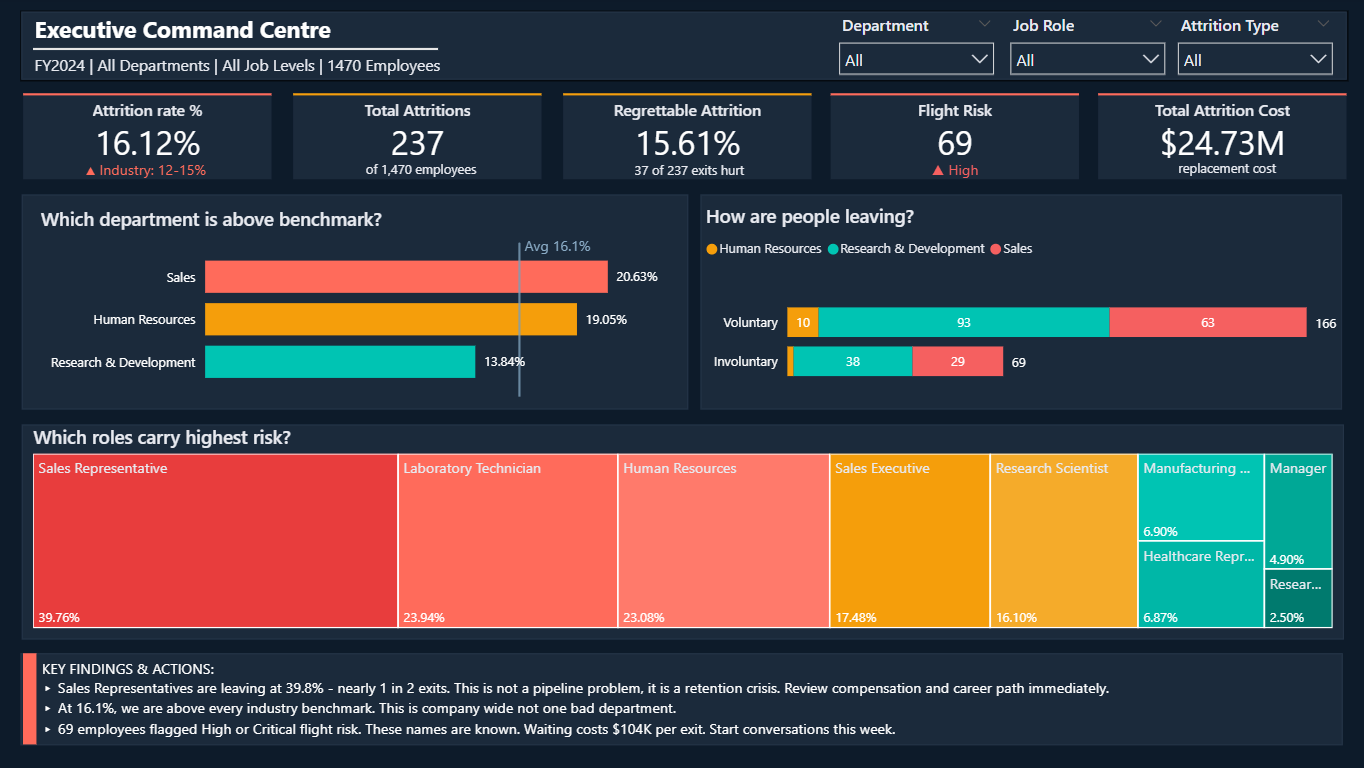

This screenshot's page, from the dashboard's own definition file:
{"tool":"powerbi","page":{"name":"Command Centre","canvas":[1280,720],"ordinal":0},"visuals":[{"type":"shape","box":[25.6,12.8,1235,65.4],"z":0},{"type":"textbox","box":[34,11,315.7,59],"z":1000},{"type":"slicer","fields":{"Values":["HR_Attrition.Department"]},"box":[777.1,11,164.3,61.4],"z":2000},{"type":"slicer","fields":{"Values":["HR_Attrition.JobRole"]},"box":[935.7,11,164.3,61.4],"z":3000},{"type":"slicer","fields":{"Values":["HR_Attrition.AttritionType"]},"box":[1091.4,11,164.3,61.4],"z":4000},{"type":"shape","box":[25.7,610,1230,85.7],"z":5000},{"type":"cardVisual","fields":{"Data":["HR_Attrition.Attrition Rate %"]},"box":[23,90,241.4,85.7],"z":6000},{"type":"cardVisual","fields":{"Data":["HR_Attrition.Total Attritions"]},"box":[274,90,241.4,85.7],"z":7000},{"type":"cardVisual","fields":{"Data":["HR_Attrition.Regrettable Attrition %"]},"box":[525.7,90,241.4,85.7],"z":8000},{"type":"cardVisual","fields":{"Data":["HR_Attrition.Flight Risk Headcount"]},"box":[775,90,241.4,85.7],"z":9000},{"type":"cardVisual","fields":{"Data":["HR_Attrition.Total Attrition Cost"]},"box":[1023,90,241.4,85.7],"z":10000},{"type":"textbox","box":[47,146,191.4,71.4],"z":11000},{"type":"textbox","box":[342,145,201.4,55.7],"z":12000},{"type":"textbox","box":[592,146,162.9,35.7],"z":13000},{"type":"textbox","box":[869,146,70,34.3],"z":14000},{"type":"textbox","box":[1098,144,137.1,32.9],"z":15000},{"type":"textbox","box":[41,610,1150,91.2],"z":16000},{"type":"shape","box":[37,29,377.1,38.6],"z":17000},{"type":"textbox","box":[34,47.1,431.4,58.6],"z":18000},{"type":"shape","box":[27.5,610,12.5,85],"z":19000},{"type":"shape","box":[658.6,184.3,597.1,200],"z":20000},{"type":"shape","box":[27.1,184.3,620,200],"z":21000},{"type":"shape","box":[27.1,397.1,1230,200],"z":22000},{"type":"barChart","title":"Which department is above benchmark?","fields":{"Category":["HR_Attrition.Department"],"Y":["HR_Attrition.Attrition Rate %"]},"box":[40,194.3,587.1,182.9],"z":23000},{"type":"barChart","title":"How are people leaving?","fields":{"Category":["HR_Attrition.AttritionType"],"Y":["HR_Attrition.Attrition Count"],"Series":["HR_Attrition.Department"]},"box":[658.6,187.1,597.1,204.3],"z":24000},{"type":"treemap","title":"Which roles carry highest risk?","fields":{"Values":["HR_Attrition.Attrition Rate %"],"Details":["HR_Attrition.JobRole"]},"box":[33,398,1218.6,194.3],"z":25000},{"type":"textbox","box":[490,217.1,137.1,35.7],"z":26000}]}

Visuals, with their boxes in screenshot pixels (x1, y1, x2, y2), scaled from the page's 1280x720 canvas onto the 1364x768 screenshot:
shape: <region>27, 14, 1343, 83</region>
textbox: <region>36, 12, 373, 75</region>
slicer - HR_Attrition.Department: <region>828, 12, 1003, 77</region>
slicer - HR_Attrition.JobRole: <region>997, 12, 1172, 77</region>
slicer - HR_Attrition.AttritionType: <region>1163, 12, 1338, 77</region>
shape: <region>27, 651, 1338, 742</region>
cardVisual - HR_Attrition.Attrition Rate %: <region>25, 96, 282, 187</region>
cardVisual - HR_Attrition.Total Attritions: <region>292, 96, 549, 187</region>
cardVisual - HR_Attrition.Regrettable Attrition %: <region>560, 96, 817, 187</region>
cardVisual - HR_Attrition.Flight Risk Headcount: <region>826, 96, 1083, 187</region>
cardVisual - HR_Attrition.Total Attrition Cost: <region>1090, 96, 1347, 187</region>
textbox: <region>50, 156, 254, 232</region>
textbox: <region>364, 155, 579, 214</region>
textbox: <region>631, 156, 804, 194</region>
textbox: <region>926, 156, 1001, 192</region>
textbox: <region>1170, 154, 1316, 189</region>
textbox: <region>44, 651, 1269, 748</region>
shape: <region>39, 31, 441, 72</region>
textbox: <region>36, 50, 496, 113</region>
shape: <region>29, 651, 43, 741</region>
shape: <region>702, 197, 1338, 410</region>
shape: <region>29, 197, 690, 410</region>
shape: <region>29, 424, 1340, 637</region>
"Which department is above benchmark?" barChart: <region>43, 207, 668, 402</region>
"How are people leaving?" barChart: <region>702, 200, 1338, 417</region>
"Which roles carry highest risk?" treemap: <region>35, 425, 1334, 632</region>
textbox: <region>522, 232, 668, 270</region>
